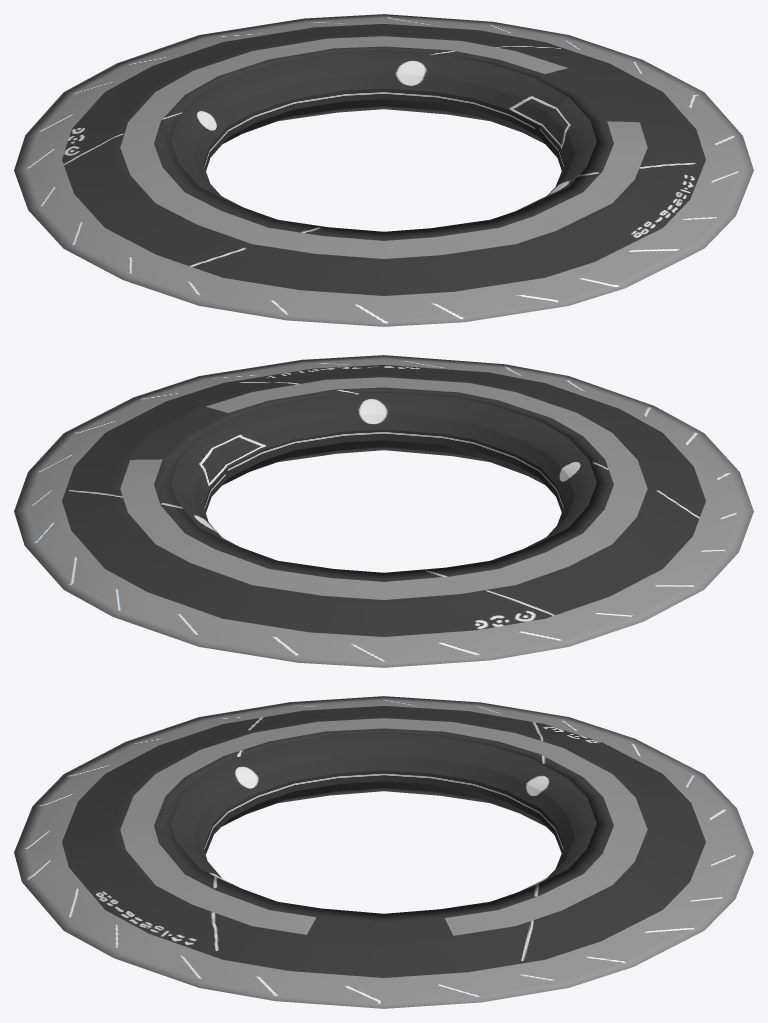
Rendered from note.obj.
The picture shows the model from 3 angles, top to bottom: view 1: azimuth 30°, elevation 25°; view 2: azimuth 150°, elevation 25°; view 3: azimuth 270°, elevation 25°; orthographic projection.
Visible parts, largest first — view 1: discus_lambert1_0_discus_lambert1_0.002, discus_disc_light_0_discus_disc_light_0.002; view 2: discus_lambert1_0_discus_lambert1_0.002, discus_disc_light_0_discus_disc_light_0.002; view 3: discus_lambert1_0_discus_lambert1_0.002, discus_disc_light_0_discus_disc_light_0.002.
Part boxes in pixels (x1=…): discus_lambert1_0_discus_lambert1_0.002: x1=62, y1=24, x2=705, y2=295; discus_disc_light_0_discus_disc_light_0.002: x1=14, y1=14, x2=753, y2=326; discus_lambert1_0_discus_lambert1_0.002: x1=62, y1=365, x2=705, y2=636; discus_disc_light_0_discus_disc_light_0.002: x1=14, y1=355, x2=753, y2=667; discus_lambert1_0_discus_lambert1_0.002: x1=62, y1=706, x2=705, y2=977; discus_disc_light_0_discus_disc_light_0.002: x1=14, y1=696, x2=753, y2=1008.
Bounding box in the file's own units: 2.09 × 0.1841 × 2.09.
